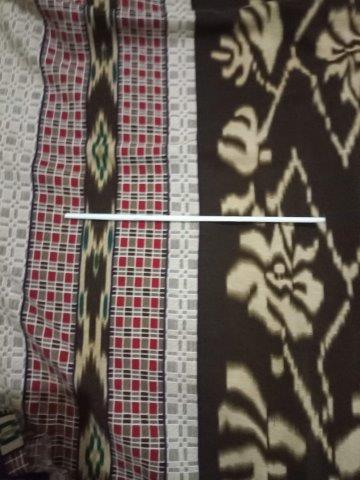sedotan: (64, 213, 325, 223)
